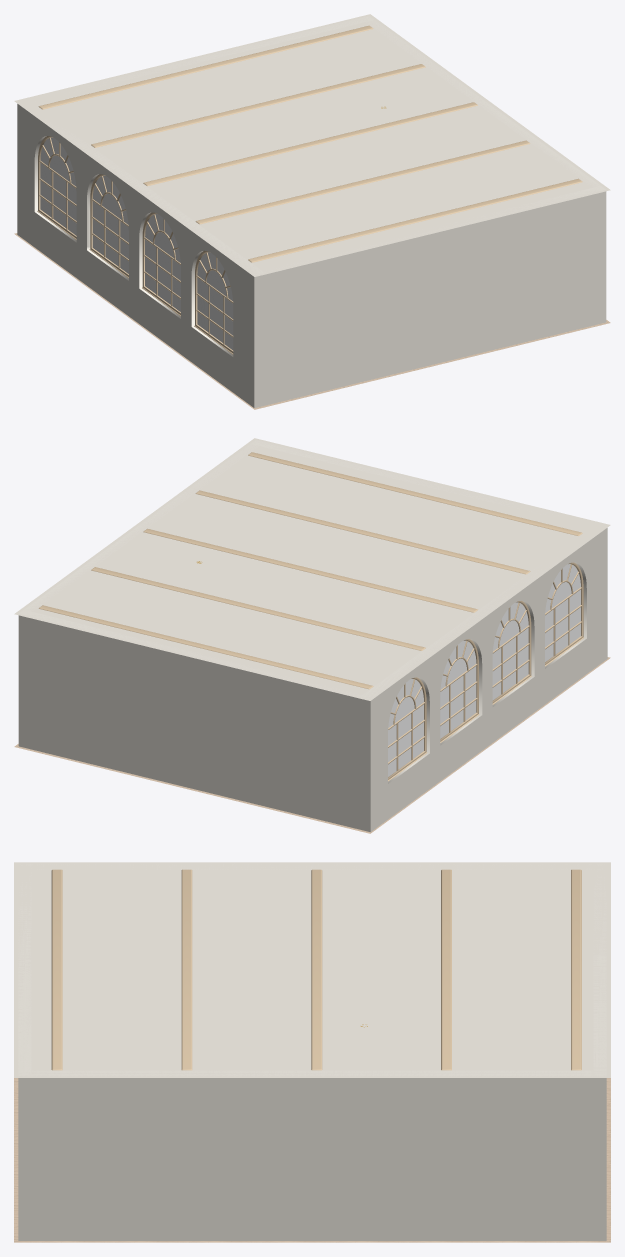
The model's file is classroom.glb.
The picture shows the model from 3 angles, top to bottom: view 1: azimuth 30°, elevation 25°; view 2: azimuth 150°, elevation 25°; view 3: azimuth 270°, elevation 25°; orthographic projection. The views are drawn at different scales.
Visible parts, largest first — view 1: ClassroomStatic, ClassroomGlass; view 2: ClassroomStatic, ClassroomGlass; view 3: ClassroomStatic.
Boxes of the visible parts, x1,y1,x2,y2 form: ClassroomStatic: (14, 14, 610, 409); ClassroomGlass: (40, 137, 233, 350); ClassroomStatic: (14, 438, 610, 833); ClassroomGlass: (388, 564, 580, 776); ClassroomStatic: (14, 862, 610, 1242).
Bounding box in the file's own units: 11.8 × 4.22 × 13.8.
Materials: 30 (2 with a texture image).
